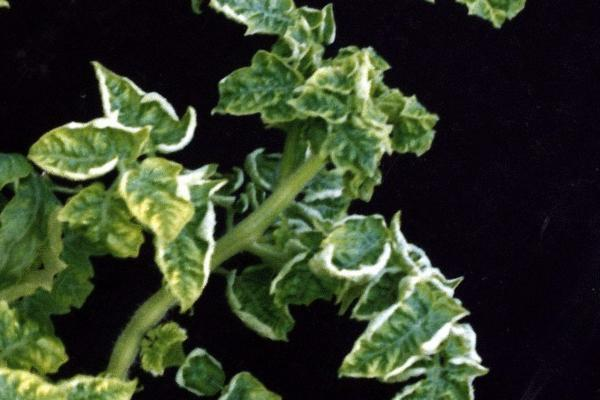Tomato leaf yellow virus: (320, 254, 475, 400), (65, 39, 218, 176), (19, 81, 160, 222), (195, 25, 316, 151), (101, 139, 226, 259), (294, 188, 412, 315), (181, 0, 330, 85), (371, 324, 506, 400)
